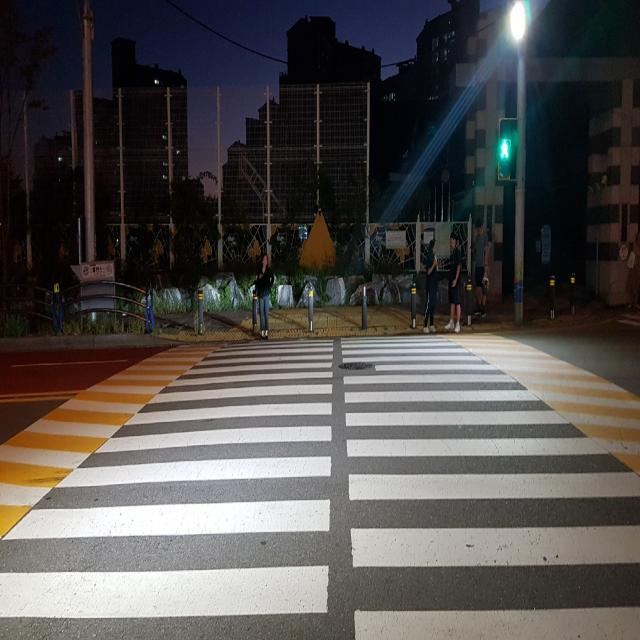초록불: (500, 118, 510, 180)
횡단보도: (0, 333, 640, 640)
